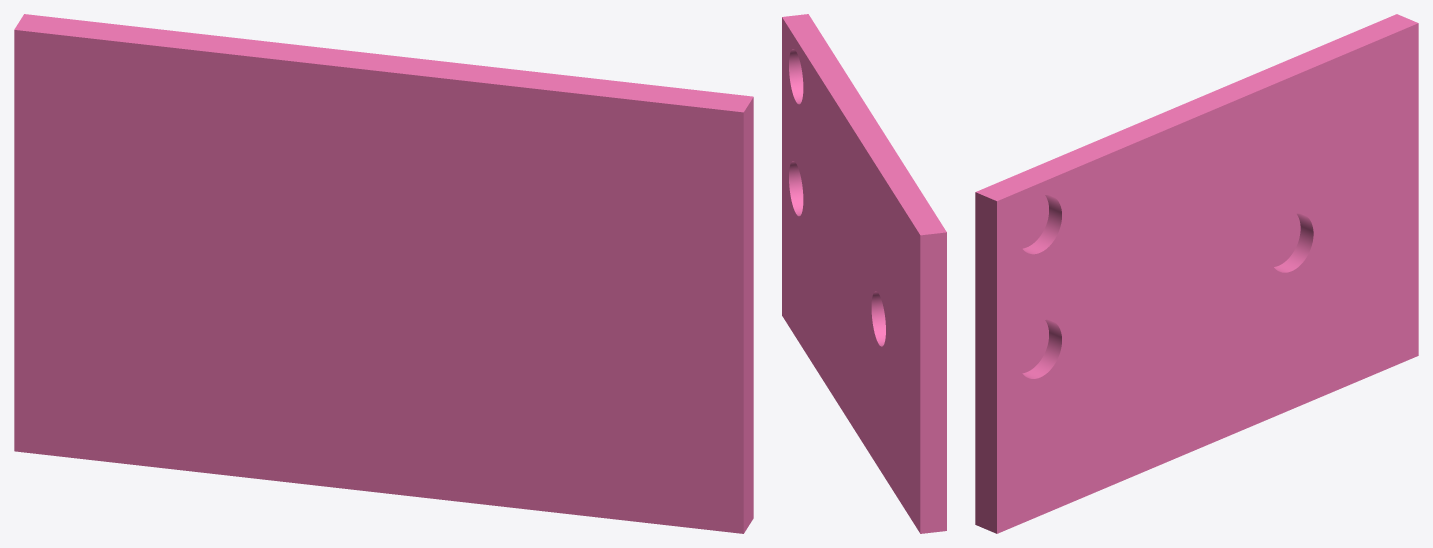
The model's file is Cube 1x1 V5_Mirror Plate Horizontal.obj.
3 renders of one model, left to right at view 1: azimuth 30°, elevation 25°; view 2: azimuth 150°, elevation 25°; view 3: azimuth 270°, elevation 25°, orthographic. The views are drawn at different scales.
Parts seen in each view (by area): view 1: Solid1:26; view 2: Solid1:26; view 3: Solid1:26.
Boxes of the visible parts, x1,y1,x2,y2 form: Solid1:26: [14, 14, 753, 533]; Solid1:26: [782, 14, 946, 533]; Solid1:26: [975, 14, 1418, 533].
Size of the model in its own units: 36.21 by 30 by 36.21.
